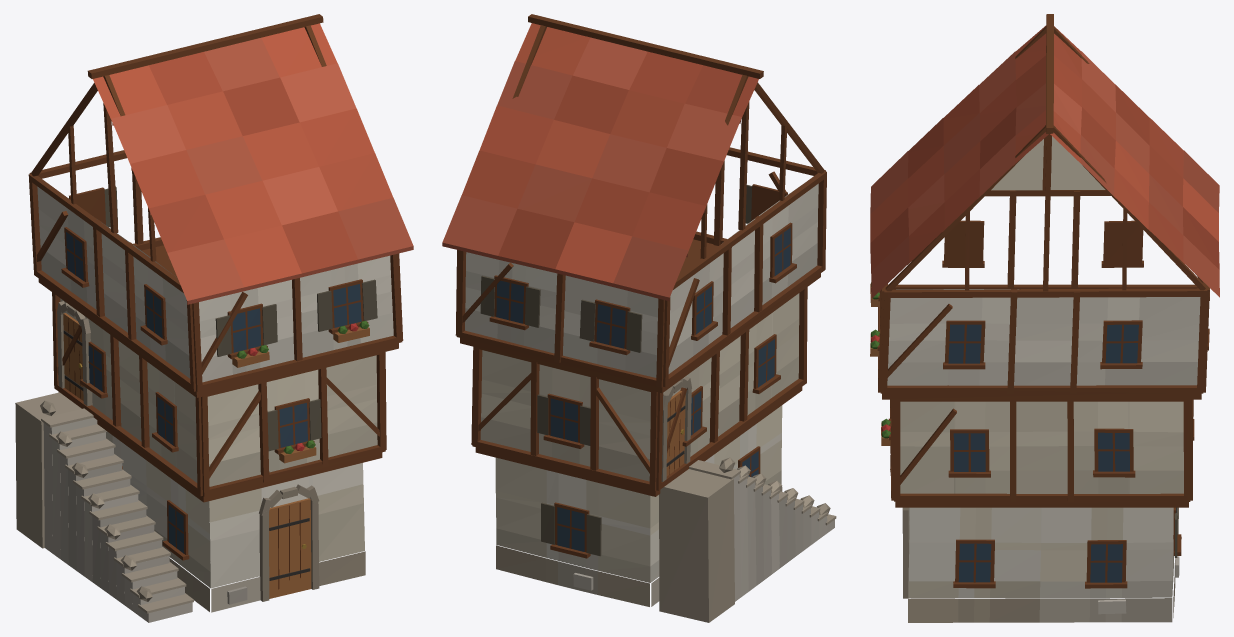
Rendered from townhouse-2.glb.
3 views of the same model, side by side, from view 1: azimuth 30°, elevation 25°; view 2: azimuth 150°, elevation 25°; view 3: azimuth 270°, elevation 25° (orthographic).
Parts seen in each view (by area): view 1: buildings/townhouse-2; view 2: buildings/townhouse-2; view 3: buildings/townhouse-2.
Boxes of the visible parts, left/top/right/bottom form: buildings/townhouse-2: left=15, top=14, right=413, bottom=622; buildings/townhouse-2: left=442, top=14, right=836, bottom=622; buildings/townhouse-2: left=870, top=14, right=1219, bottom=622.
Bounding box in the file's own units: 5.43 × 10.59 × 6.61.
